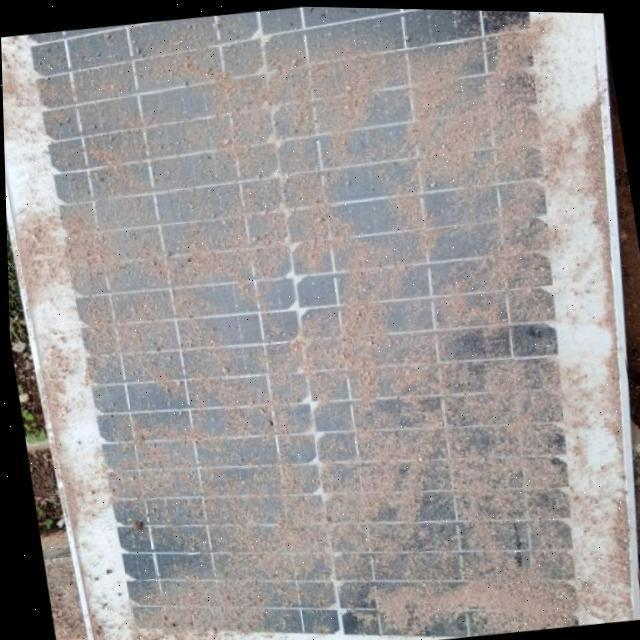Surface Contaminant: (18, 41, 595, 640)
